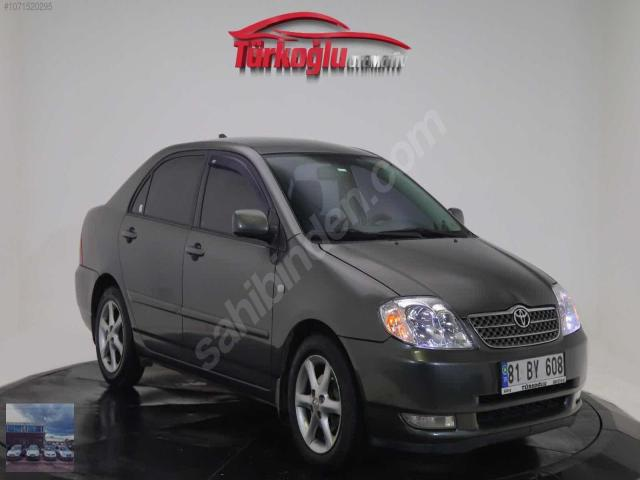plaka: (501, 353, 567, 394)
